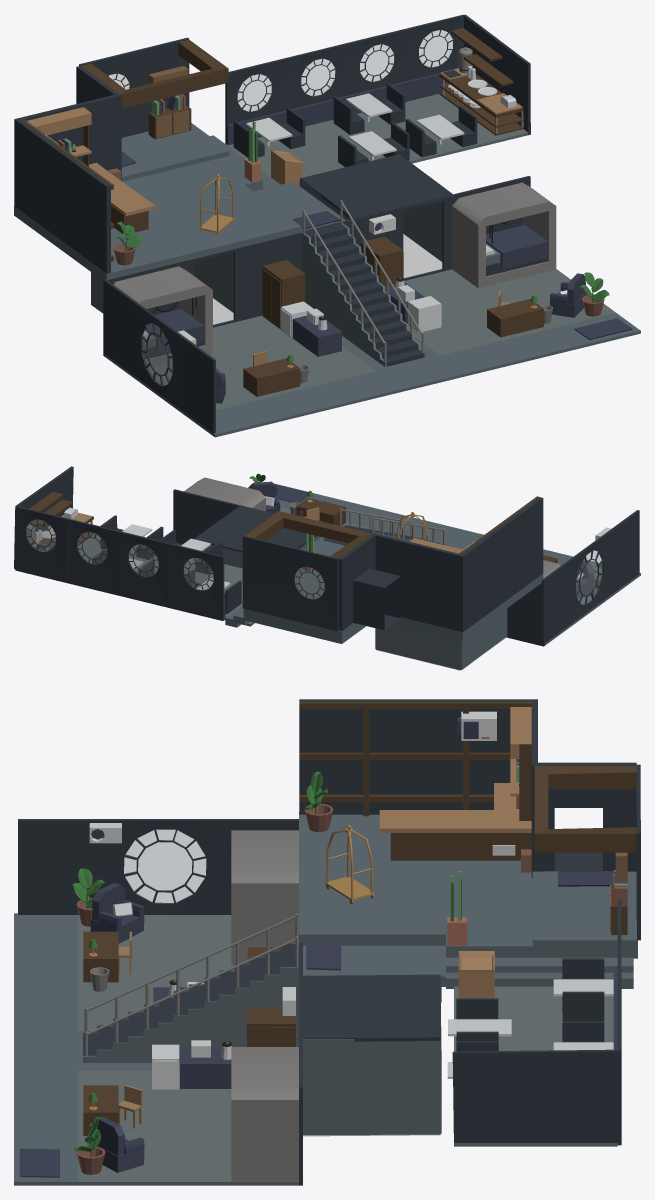
Rendered from hotel_01_blockout.fbx.
3 renders of one model, top to bottom at view 1: azimuth 30°, elevation 25°; view 2: azimuth 150°, elevation 25°; view 3: azimuth 270°, elevation 25°, orthographic. The views are drawn at different scales.
Visible parts, largest first — view 1: first_floor_GEO, floor_02_GEO, window_pane_GEO (×2), stairs_GEO, wall_3_GEO, bed_frame_2_GEO, kitchen_floor_GEO, lobby_floor_GEO12, first_floor_wall_5_GEO, bed_frame_1_GEO, floor_01_GEO, window_pane_GEO4 (+49 smaller); view 2: window_pane_GEO (×2), window_pane_GEO4, wall_3_GEO, wall_2_GEO, entry_GEO, first_floor_GEO, window_pane_GEO1, window_pane_GEO3, window_pane_GEO2, first_floor_wall_3_GEO, lobby_floor_GEO12, first_floor_wall_2_GEO (+25 smaller); view 3: first_floor_GEO, floor_02_GEO, wall_3_GEO, kitchen_wall_GEO, window_pane_GEO, lobby_floor_GEO11, stairs_GEO, lobby_floor_GEO12, bed_frame_2_GEO, bed_frame_1_GEO, floor_01_GEO, topBeam_GEO (+38 smaller).
Part boxes in pixels (bbox=[...]): first_floor_GEO: bbox=[104, 269, 640, 437]; floor_02_GEO: bbox=[14, 156, 301, 280]; window_pane_GEO (×2): bbox=[104, 44, 347, 433]; stairs_GEO: bbox=[301, 223, 425, 366]; wall_3_GEO: bbox=[16, 120, 110, 273]; bed_frame_2_GEO: bbox=[452, 182, 556, 288]; kitchen_floor_GEO: bbox=[226, 94, 528, 177]; lobby_floor_GEO12: bbox=[300, 154, 453, 218]; first_floor_wall_5_GEO: bbox=[103, 233, 301, 356]; bed_frame_1_GEO: bbox=[113, 266, 212, 368]; floor_01_GEO: bbox=[121, 123, 229, 181]; window_pane_GEO4: bbox=[79, 37, 189, 137]; window_pane_GEO (×2): bbox=[118, 510, 639, 644]; window_pane_GEO4: bbox=[242, 535, 338, 631]; wall_3_GEO: bbox=[462, 497, 543, 630]; wall_2_GEO: bbox=[373, 533, 464, 632]; entry_GEO: bbox=[339, 534, 400, 631]; first_floor_GEO: bbox=[274, 483, 640, 645]; window_pane_GEO1: bbox=[168, 543, 224, 620]; window_pane_GEO3: bbox=[15, 506, 69, 583]; window_pane_GEO2: bbox=[66, 519, 119, 595]; first_floor_wall_3_GEO: bbox=[375, 624, 460, 669]; lobby_floor_GEO12: bbox=[194, 505, 316, 552]; first_floor_wall_2_GEO: bbox=[173, 489, 274, 544]; first_floor_GEO: bbox=[14, 913, 298, 1185]; floor_02_GEO: bbox=[299, 812, 532, 957]; wall_3_GEO: bbox=[299, 699, 531, 814]; kitchen_wall_GEO: bbox=[452, 1049, 620, 1144]; window_pane_GEO: bbox=[18, 819, 298, 914]; lobby_floor_GEO11: bbox=[301, 1039, 440, 1134]; stairs_GEO: bbox=[83, 942, 298, 1062]; lobby_floor_GEO12: bbox=[301, 974, 440, 1041]; bed_frame_2_GEO: bbox=[231, 1047, 298, 1181]; bed_frame_1_GEO: bbox=[231, 830, 298, 965]; floor_01_GEO: bbox=[532, 871, 637, 958]; topBeam_GEO: bbox=[534, 765, 636, 852].
Size of the model in its own units: 2116 by 706 by 1830.
